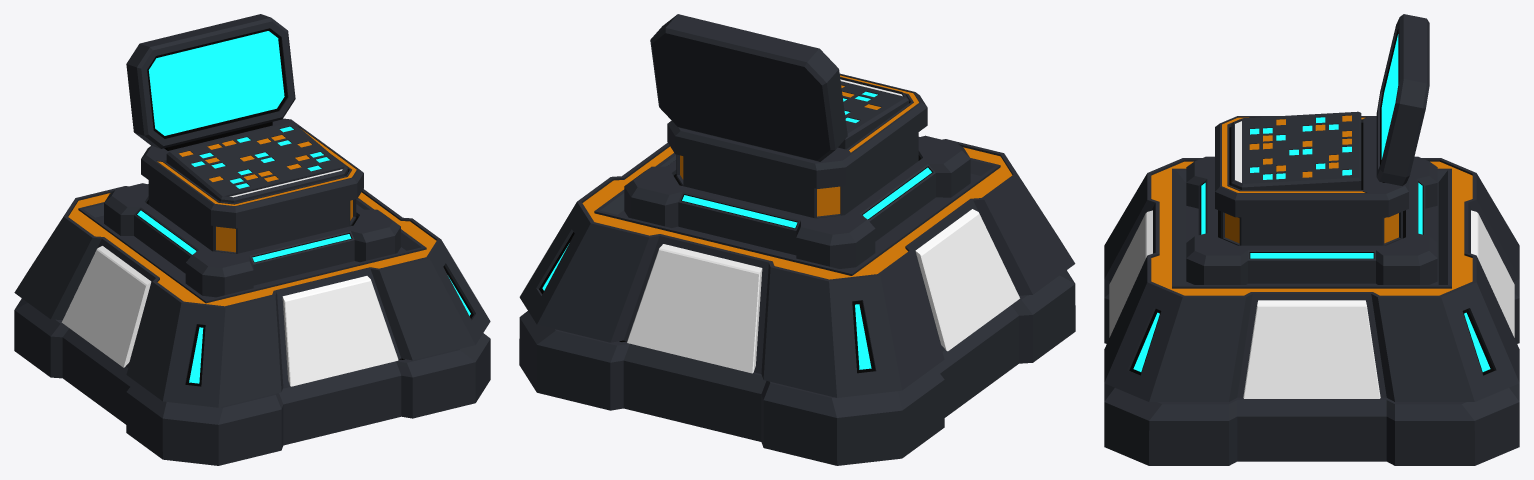
Rendered from SM_Defense_TacticalConsole.fbx.
The picture shows the model from 3 angles, left to right: view 1: azimuth 30°, elevation 25°; view 2: azimuth 150°, elevation 25°; view 3: azimuth 270°, elevation 25°; orthographic projection. The views are drawn at different scales.
Parts seen in each view (by area): view 1: SM_Defense_TacticalConsole, SM_Defense_TacticalConsole_Head; view 2: SM_Defense_TacticalConsole, SM_Defense_TacticalConsole_Head; view 3: SM_Defense_TacticalConsole, SM_Defense_TacticalConsole_Head.
Part boxes in pixels (bbox=[...]): SM_Defense_TacticalConsole: bbox=[14, 184, 490, 465]; SM_Defense_TacticalConsole_Head: bbox=[104, 14, 400, 297]; SM_Defense_TacticalConsole: bbox=[519, 137, 1075, 465]; SM_Defense_TacticalConsole_Head: bbox=[624, 14, 970, 268]; SM_Defense_TacticalConsole: bbox=[1104, 158, 1519, 465]; SM_Defense_TacticalConsole_Head: bbox=[1186, 14, 1437, 284].
Size of the model in its own units: 1 by 0.8813 by 1.
